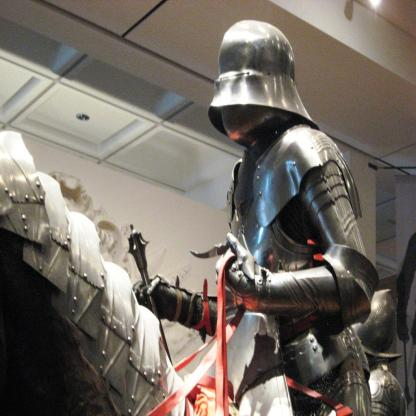Helmet: (210, 30, 304, 152), (350, 288, 400, 362)
